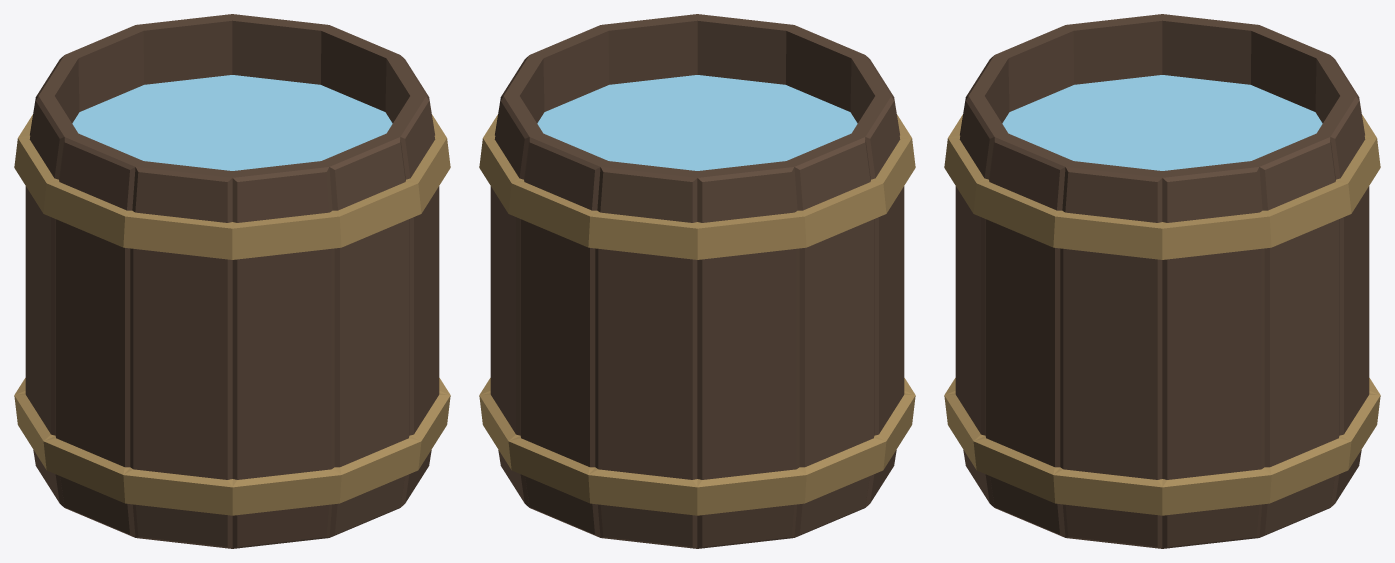
The model's file is SM_Barrel_1A.fbx.
3 renders of one model, left to right at view 1: azimuth 30°, elevation 25°; view 2: azimuth 150°, elevation 25°; view 3: azimuth 270°, elevation 25°, orthographic.
Parts seen in each view (by area): view 1: SM_Barrel_1A_LOD0; view 2: SM_Barrel_1A_LOD0; view 3: SM_Barrel_1A_LOD0.
Boxes of the visible parts, x1=… form: SM_Barrel_1A_LOD0: x1=14, y1=14, x2=450, y2=548; SM_Barrel_1A_LOD0: x1=479, y1=14, x2=915, y2=548; SM_Barrel_1A_LOD0: x1=944, y1=14, x2=1380, y2=548.
Size of the model in its own units: 106 by 106 by 99.4.
Materials: 1 (1 with a texture image).
